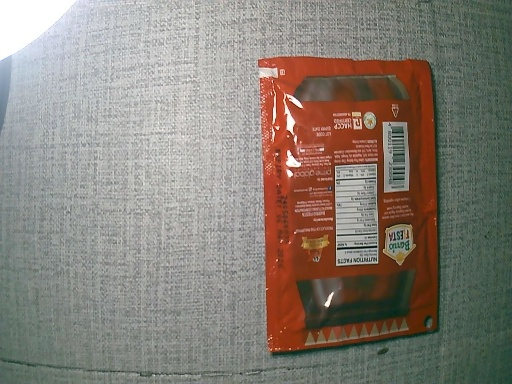plastic: (257, 56, 439, 342)
